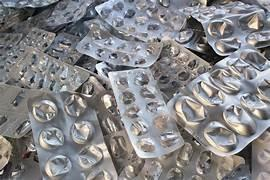pill_Strip: (168, 46, 269, 155), (27, 92, 117, 179), (109, 69, 182, 157), (77, 19, 161, 66), (96, 0, 185, 40), (8, 48, 89, 91), (0, 84, 39, 137), (46, 33, 81, 64)
